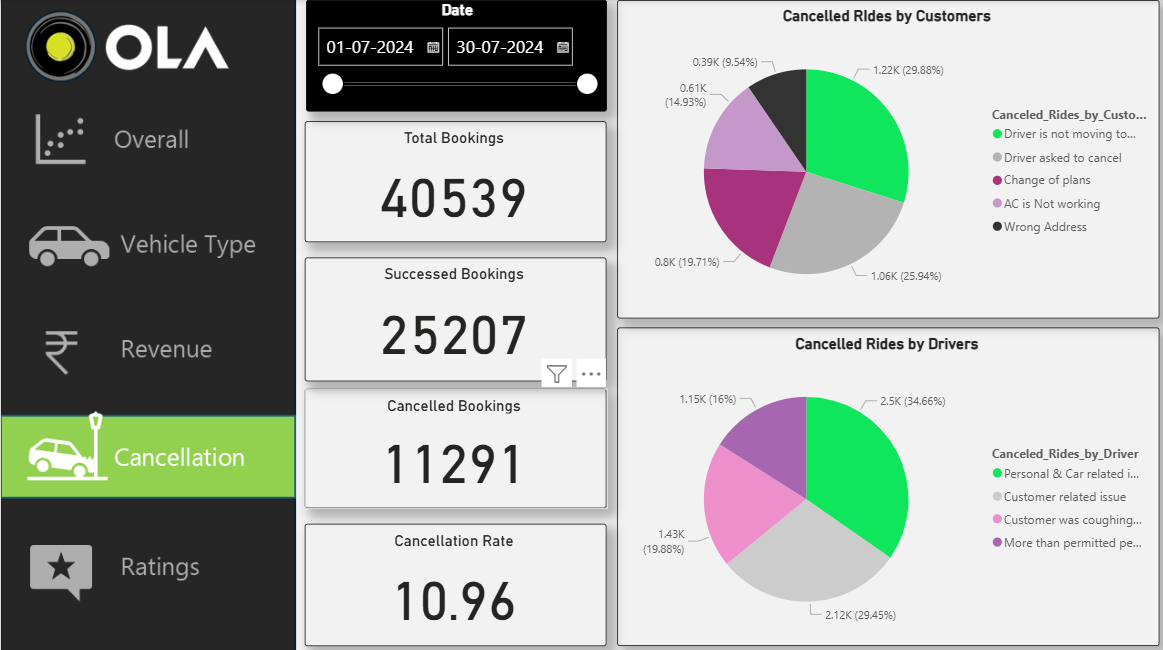

Layout of this report page (visuals, bound fields, positions):
{"tool":"powerbi","page":{"name":"Cancellation","canvas":[1280,720],"ordinal":3},"visuals":[{"type":"actionButton","box":[0,108.6,324.5,91.7],"z":0},{"type":"actionButton","box":[1.2,219.6,324.5,91.7],"z":1000},{"type":"actionButton","box":[1.2,335.4,324.5,91.7],"z":2000},{"type":"actionButton","box":[0,575.5,324.5,91.7],"z":3000},{"type":"pieChart","title":"Cancelled RIdes by Customers","fields":{"Category":["bookings.Canceled_Rides_by_Customer"],"Y":["CountNonNull(bookings.Canceled_Rides_by_Customer)"]},"box":[676.5,0,595.5,349.9],"z":4000},{"type":"pieChart","title":"Cancelled Rides by Drivers","fields":{"Category":["bookings.Canceled_Rides_by_Driver"],"Y":["CountNonNull(bookings.Canceled_Rides_by_Driver)"]},"box":[676.5,359.5,595.5,349.9],"z":5000},{"type":"slicer","title":"Date","fields":{"Values":["bookings.Date"]},"box":[334.8,0,330.7,122.1],"z":6000},{"type":"card","title":"Total Bookings","fields":{"Values":["CountNonNull(bookings.Booking_ID)"]},"box":[334.1,133.1,331.2,133.1],"z":7000},{"type":"card","title":"Successed Bookings","fields":{"Values":["CountNonNull(bookings.Booking_ID)"]},"box":[334.1,282.4,331.2,136],"z":8000},{"type":"card","title":"Cancelled Bookings","fields":{"Values":["CountNonNull(bookings.Booking_ID)"]},"box":[334.1,427.3,331.2,131.6],"z":9000},{"type":"card","title":"Cancellation Rate","fields":{"Values":["bookings.CanceledPercentage"]},"box":[334.1,575.1,331.2,134.5],"z":10000}]}

Visuals, with their boxes on the page's 1280x720 design canvas (x1, y1, x2, y2). These are canvas units, not pixel positions in the 1163x650 screenshot, which may show the page scaled, cropped or inside an application window:
actionButton: bbox=[0, 109, 324, 200]
actionButton: bbox=[1, 220, 326, 311]
actionButton: bbox=[1, 335, 326, 427]
actionButton: bbox=[0, 576, 324, 667]
"Cancelled RIdes by Customers" pieChart: bbox=[676, 0, 1272, 350]
"Cancelled Rides by Drivers" pieChart: bbox=[676, 360, 1272, 709]
"Date" slicer: bbox=[335, 0, 666, 122]
"Total Bookings" card: bbox=[334, 133, 665, 266]
"Successed Bookings" card: bbox=[334, 282, 665, 418]
"Cancelled Bookings" card: bbox=[334, 427, 665, 559]
"Cancellation Rate" card: bbox=[334, 575, 665, 710]
